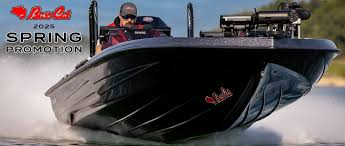boat: (43, 1, 341, 145)
